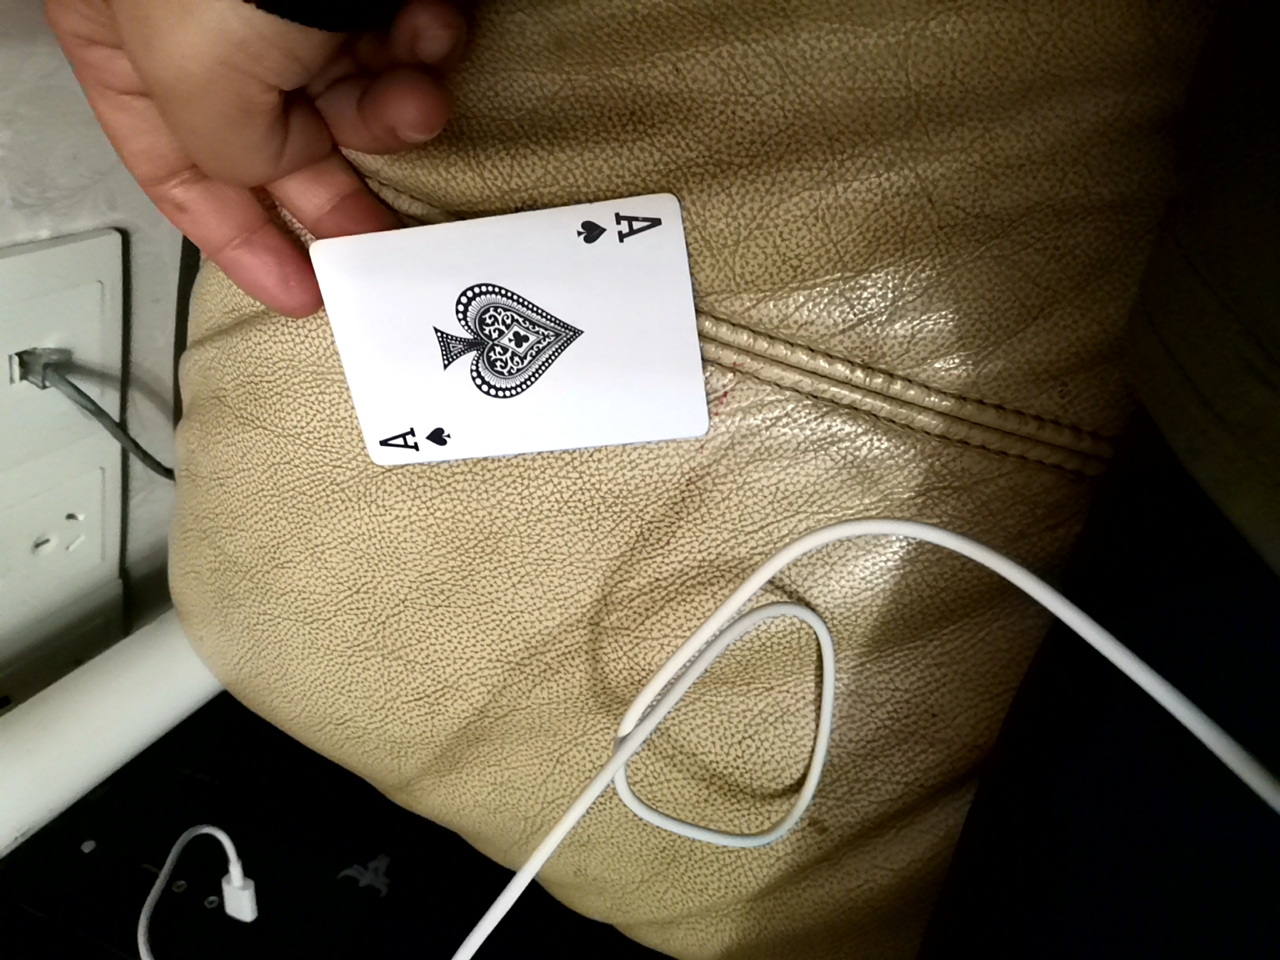ht a: (310, 213, 706, 464)
